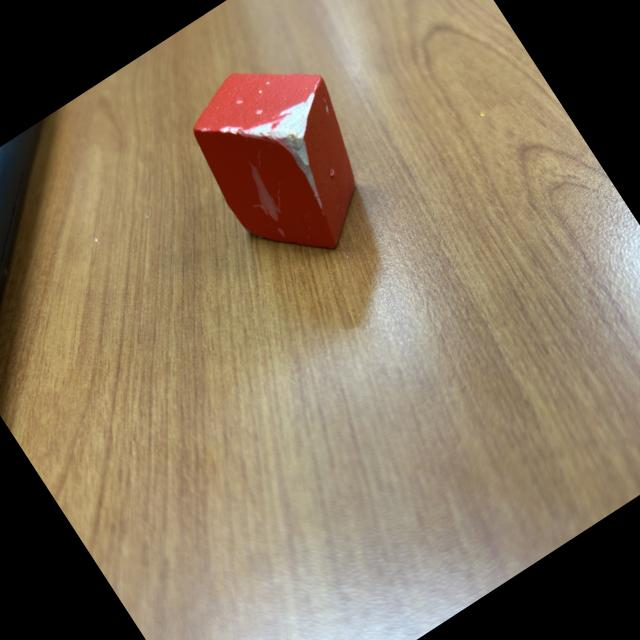broken: (167, 31, 406, 286)
